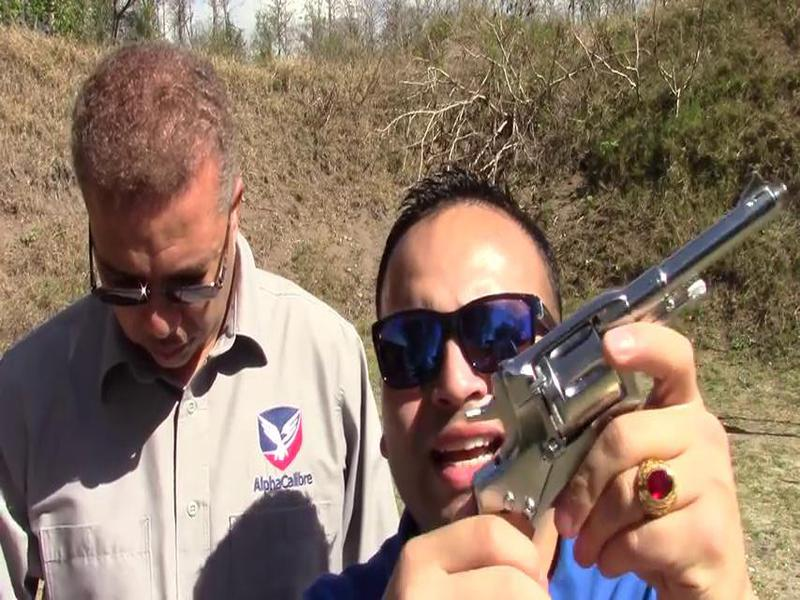Revolver: (442, 168, 792, 556)
